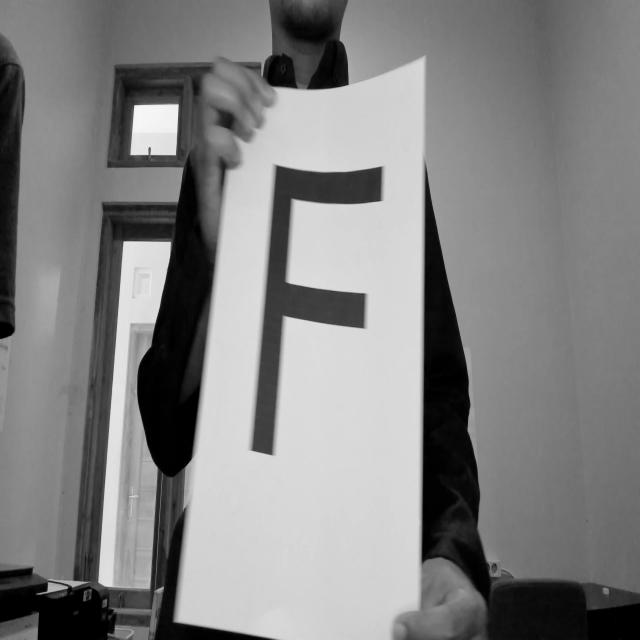f: (247, 147, 388, 486)
